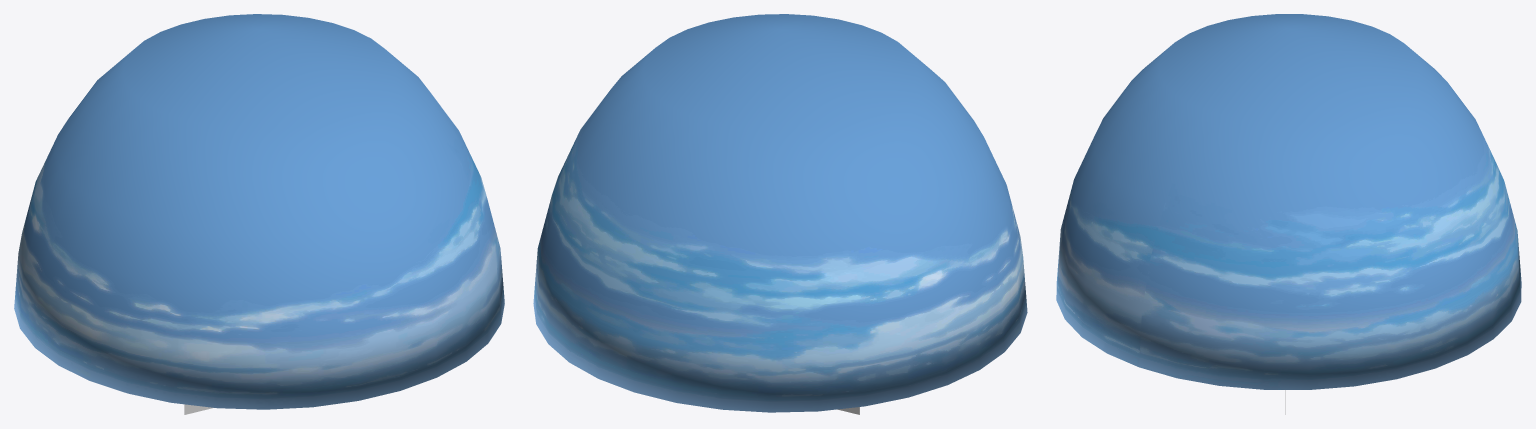
File: door.glb
3 views of the same model, side by side, from view 1: azimuth 30°, elevation 25°; view 2: azimuth 150°, elevation 25°; view 3: azimuth 270°, elevation 25° (orthographic). The views are drawn at different scales.
Parts seen in each view (by area): view 1: Sky; view 2: Sky; view 3: Sky.
Boxes of the visible parts, <box> form: Sky: <box>14,14,504,409</box>; Sky: <box>533,14,1027,412</box>; Sky: <box>1056,14,1521,389</box>.
Size of the model in its own units: 32.18 by 26.53 by 32.18.
3 materials, 2 textured.
